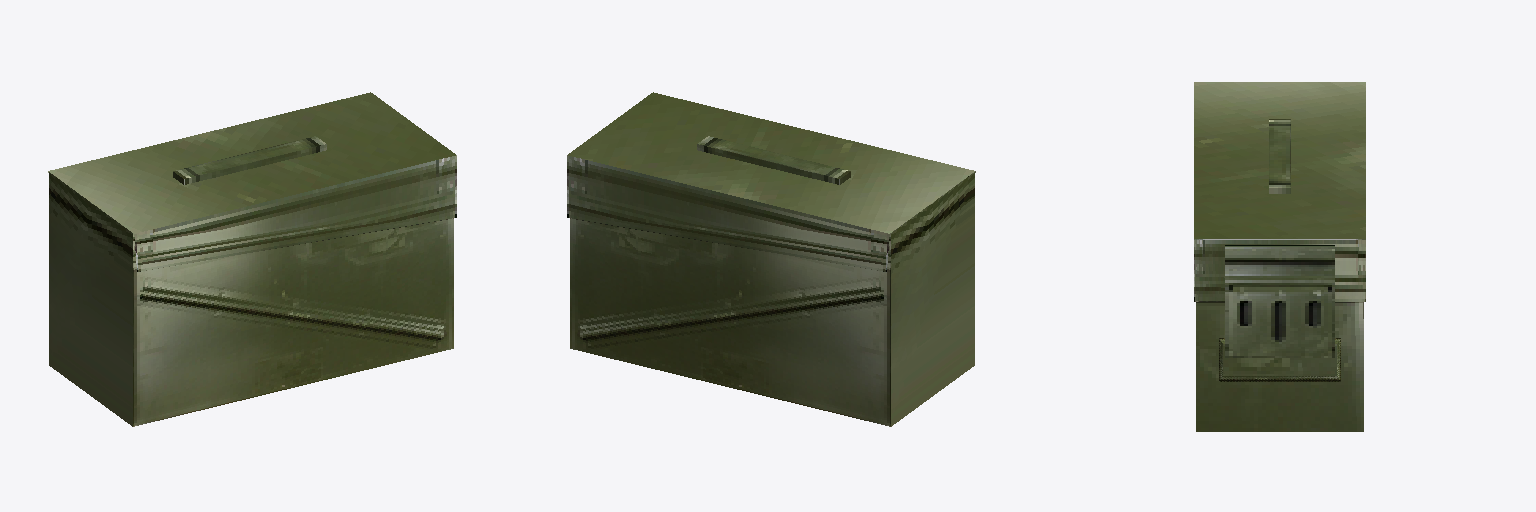
3 renders of one model, left to right at view 1: azimuth 30°, elevation 25°; view 2: azimuth 150°, elevation 25°; view 3: azimuth 270°, elevation 25°, orthographic.
Parts seen in each view (by area): view 1: Cube; view 2: Cube; view 3: Cube.
Part boxes in pixels (x1,y1,x2,y2): Cube: (48,92,456,426); Cube: (567,92,975,426); Cube: (1194,82,1365,431).
Size of the model in its own units: 0.9201 by 0.5336 by 0.4153.
Materials: 1 (1 with a texture image).